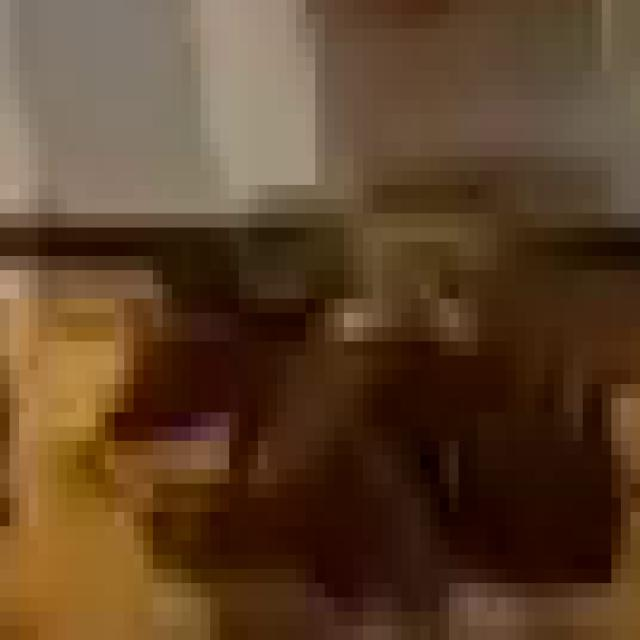honeybee: (92, 245, 615, 602)
